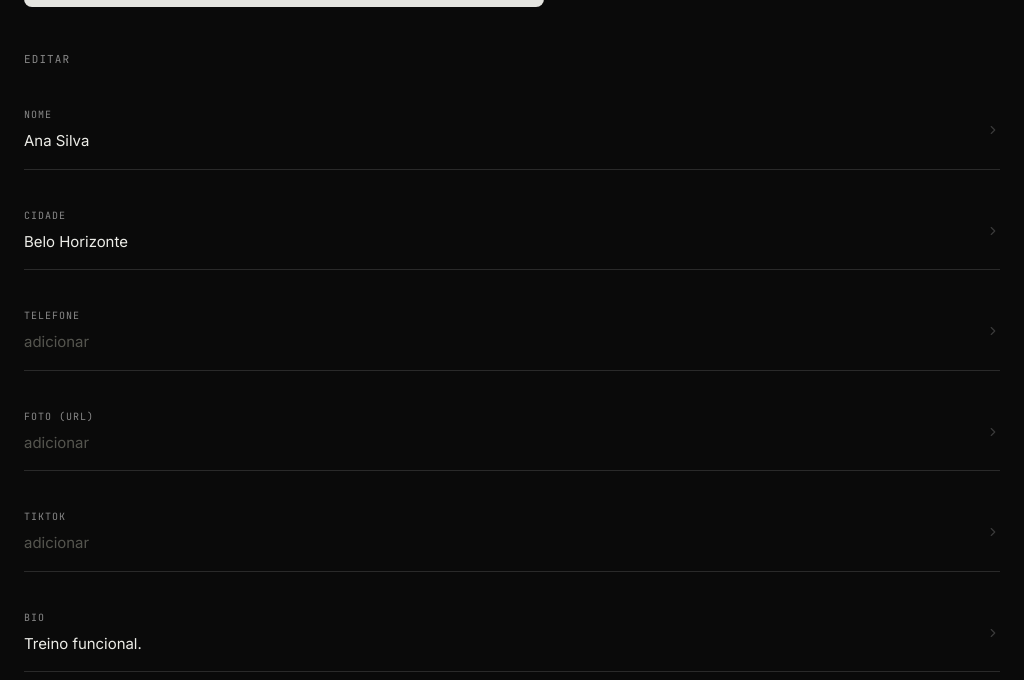
it: Creator ProfilePage › não salva telefone em formato inválido
(page scrolled)
Click the button "Telefone adicionar" at (52, 316), box [24,292,1000,371]
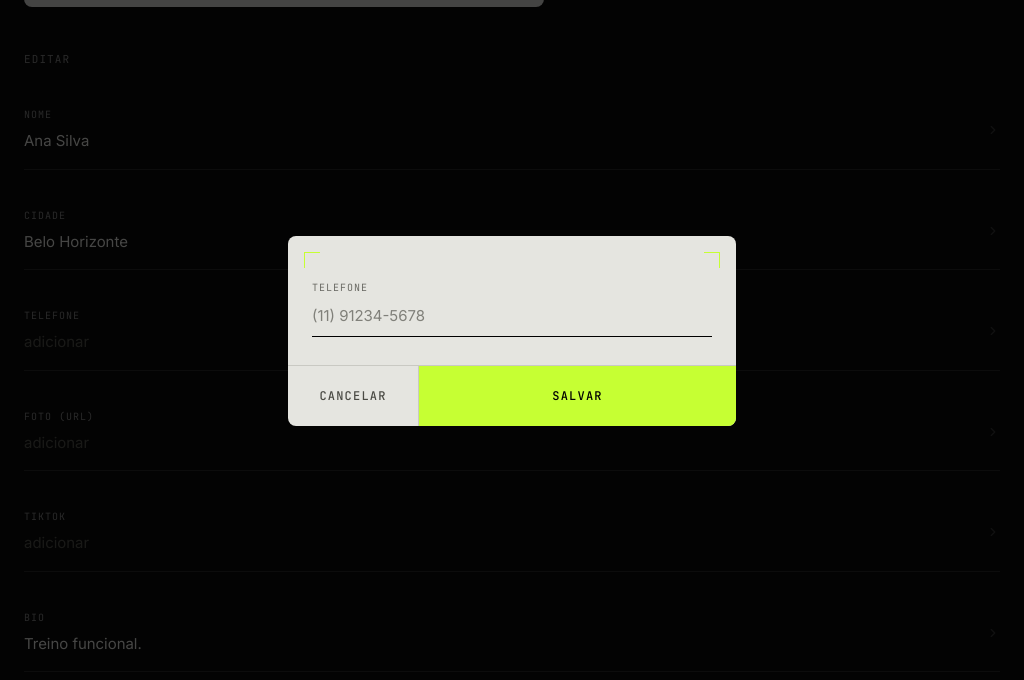
Type "me liga aí" into the field labelled "Telefone" at (512, 316), box [312,305,712,327]
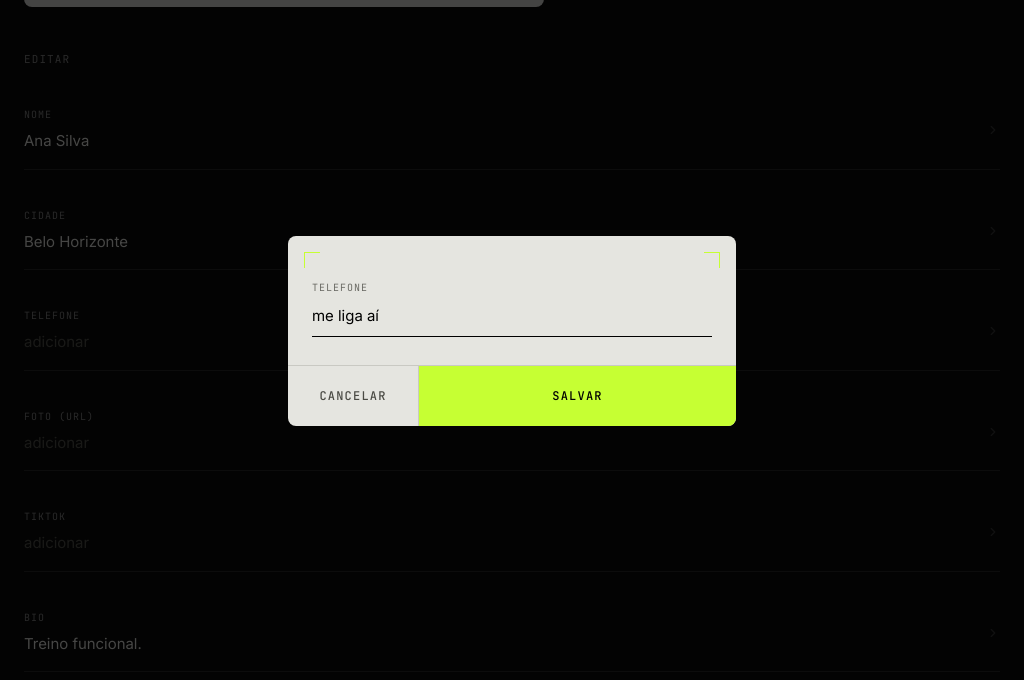
Click the button "Salvar" at (577, 396), box [418,366,736,426]
(page scrolled)
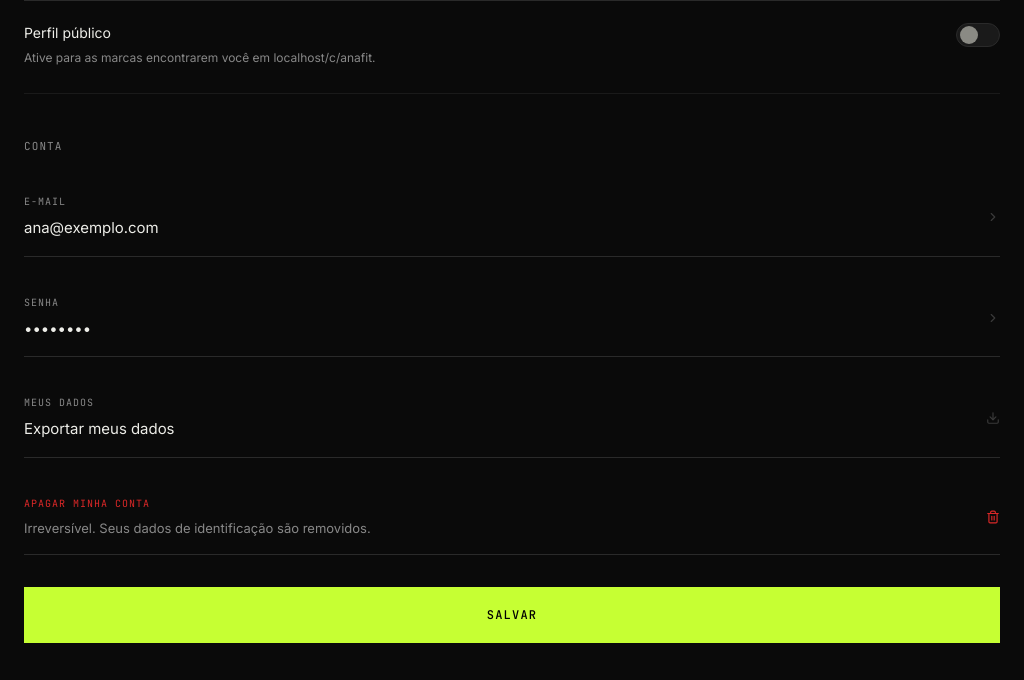
Click the button "Salvar" at (512, 615), box [24,587,1000,643]
(page scrolled)
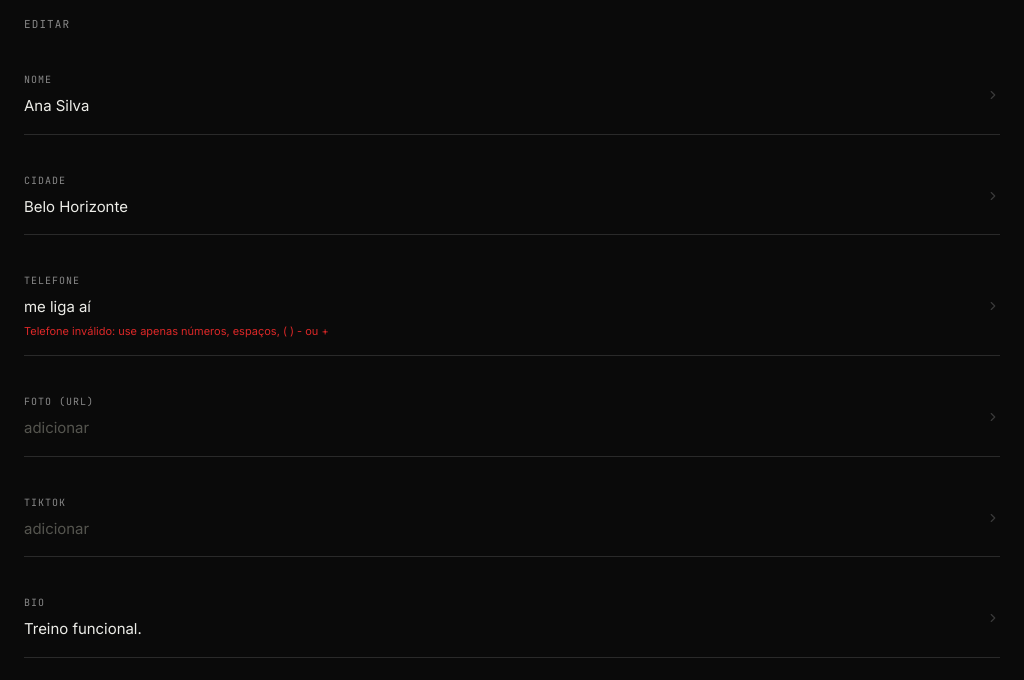
Result: the text "Telefone inválido: use apenas números, espaços, ( ) - ou +" is shown at [24,324,329,338]
